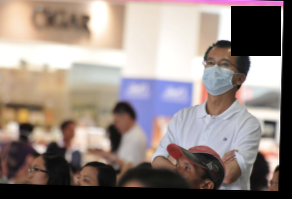with_mask: (202, 55, 239, 95)
without_mask: (26, 162, 49, 184), (75, 171, 98, 185)
